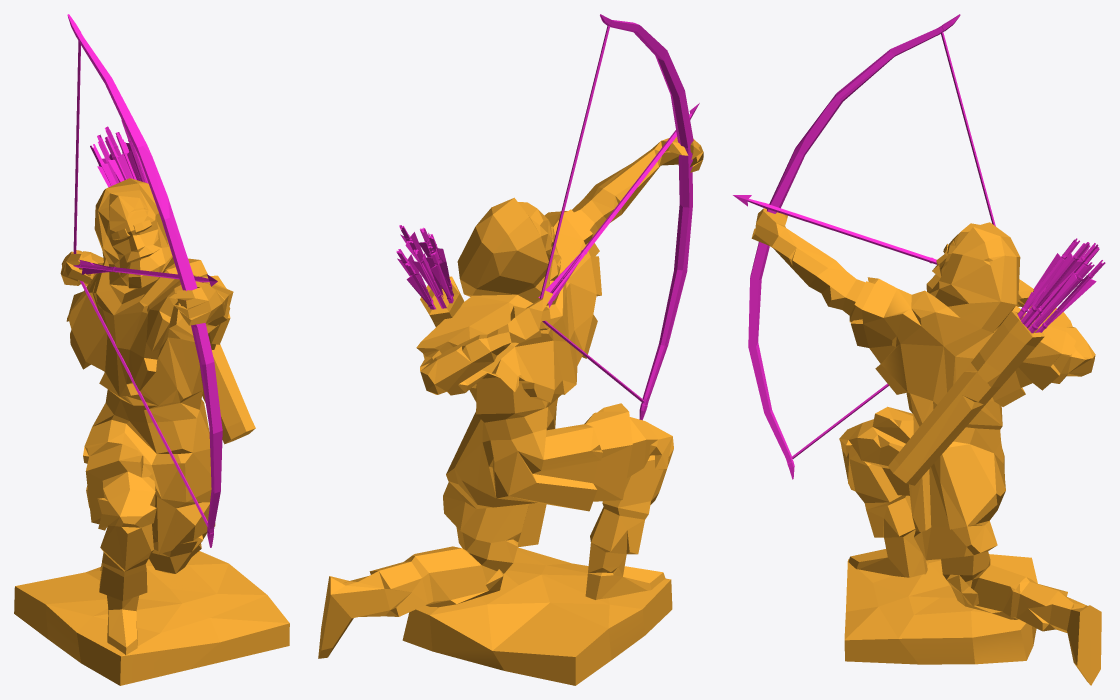
File: SM_Statue_Archer_Shooting_Fantasy.fbx
3 renders of one model, left to right at view 1: azimuth 30°, elevation 25°; view 2: azimuth 150°, elevation 25°; view 3: azimuth 270°, elevation 25°, orthographic. The views are drawn at different scales.
Visible parts, largest first — view 1: SM_Statue_Archer_Shooting_Fantasy; view 2: SM_Statue_Archer_Shooting_Fantasy; view 3: SM_Statue_Archer_Shooting_Fantasy.
Boxes of the visible parts, x1,y1,x2,y2 form: SM_Statue_Archer_Shooting_Fantasy: (14,14,289,685); SM_Statue_Archer_Shooting_Fantasy: (318,14,703,685); SM_Statue_Archer_Shooting_Fantasy: (733,14,1105,685).
Size of the model in its own units: 0.8305 by 2.19 by 1.28.
